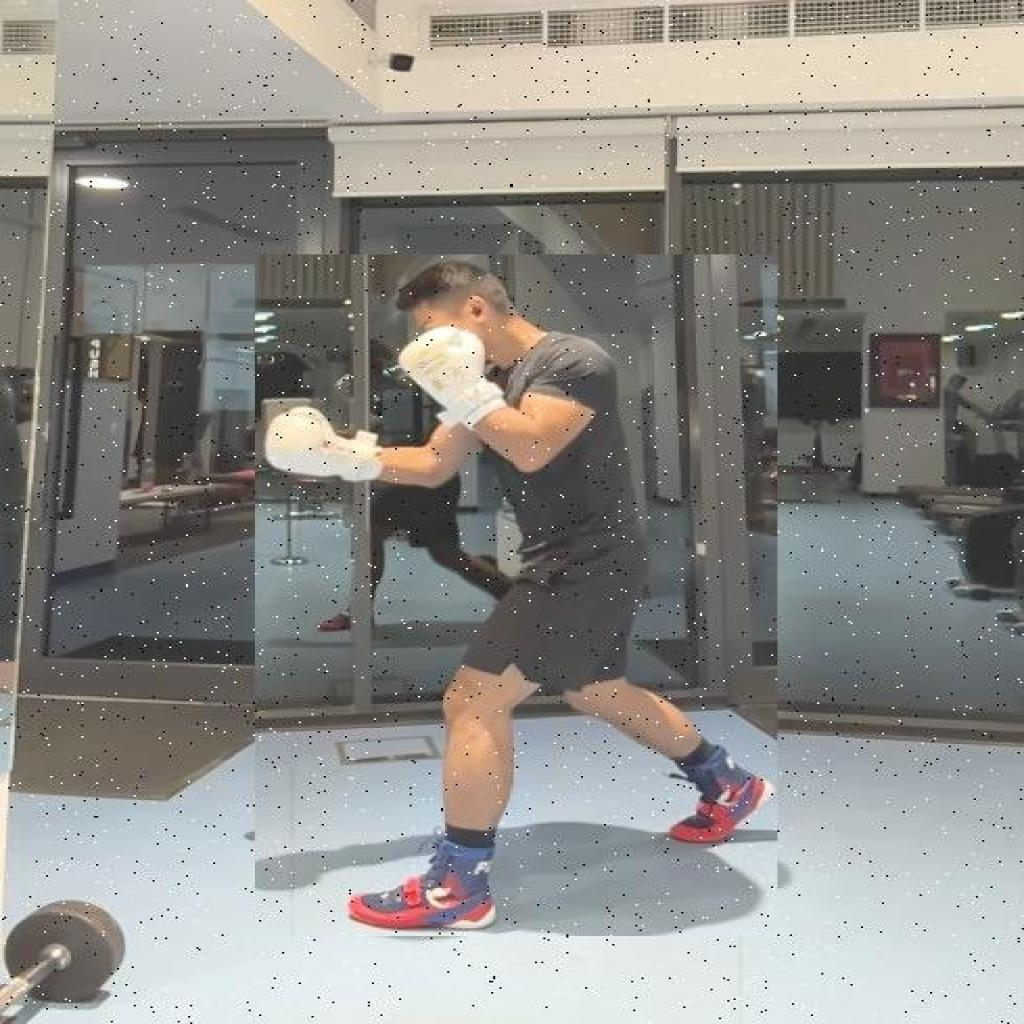uppercut: (255, 254, 776, 936)
